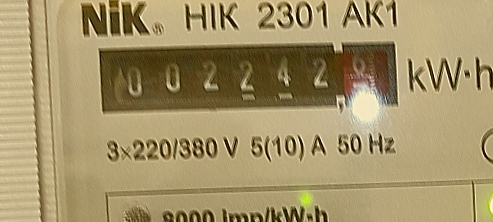0: (122, 64, 144, 98), (160, 60, 181, 94)
2: (198, 58, 219, 91), (235, 58, 254, 92), (309, 56, 327, 89)
4: (273, 54, 291, 88)
6: (349, 49, 366, 76)
screen: (86, 25, 408, 129)
